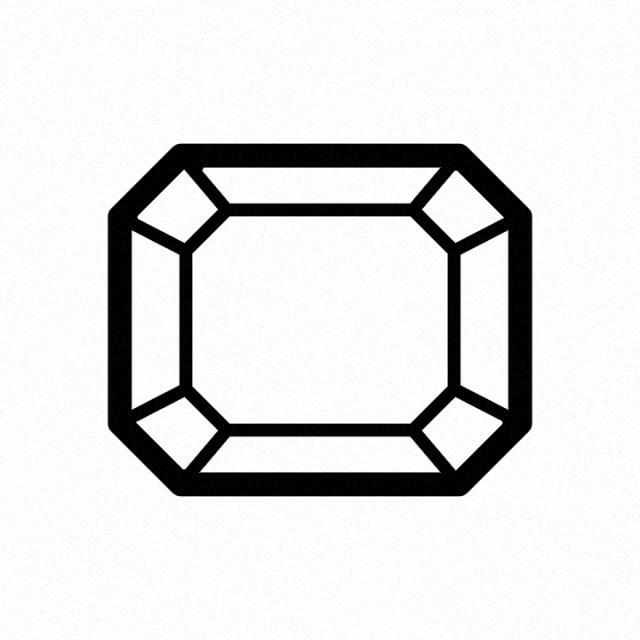emerald: (96, 134, 541, 512)
